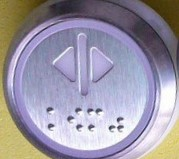Braille: (66, 106, 85, 133), (45, 106, 64, 132), (86, 107, 104, 133), (108, 107, 125, 133)
